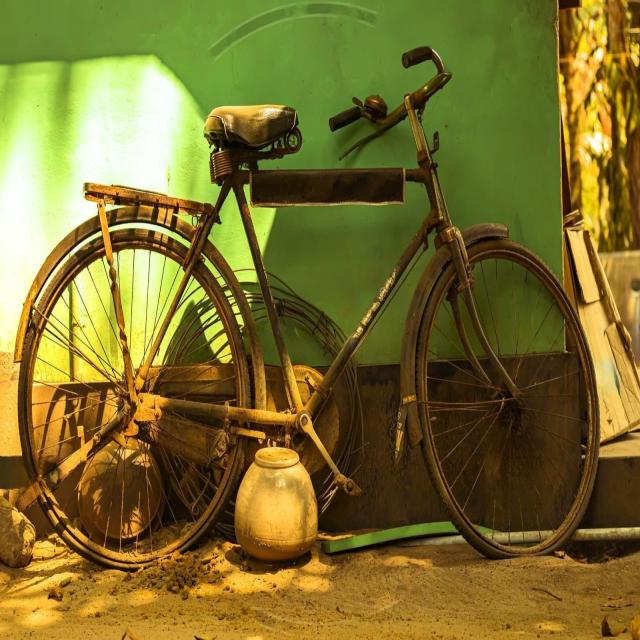bicycle: (15, 47, 600, 568)
